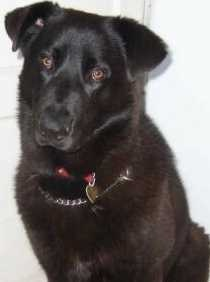Dog: (16, 10, 190, 281)
